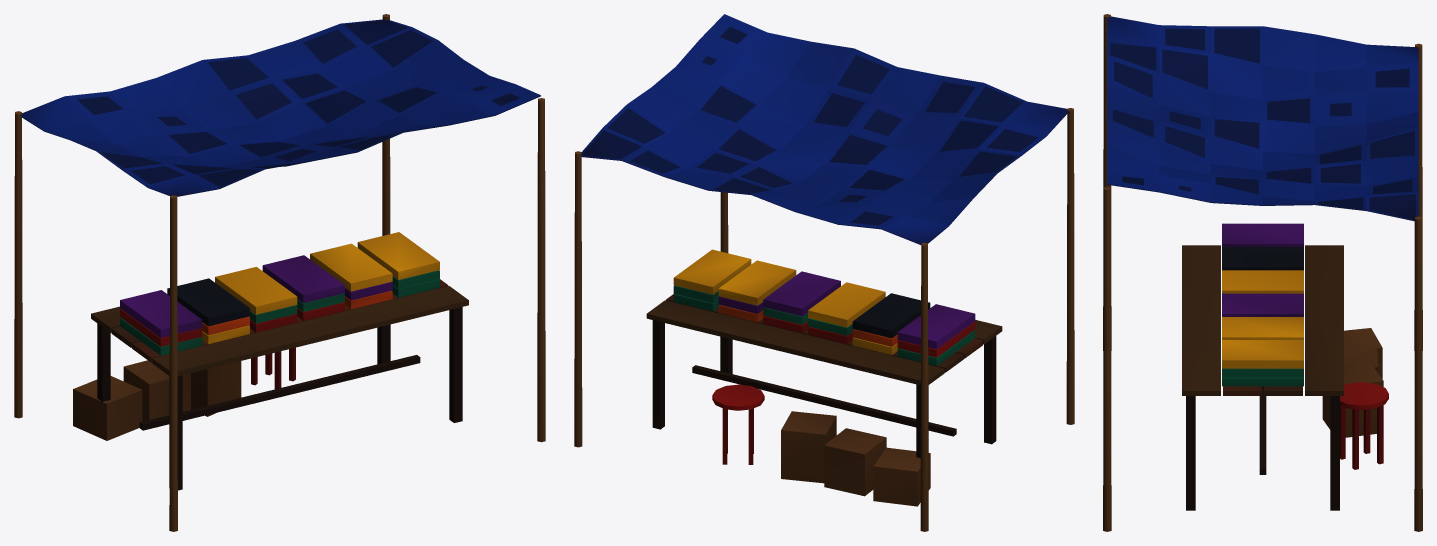
File: mk_stall_tarp.glb
The picture shows the model from 3 angles, left to right: view 1: azimuth 30°, elevation 25°; view 2: azimuth 150°, elevation 25°; view 3: azimuth 270°, elevation 25°; orthographic projection. The views are drawn at different scales.
Visible parts, largest first — view 1: mk_stall_tarp; view 2: mk_stall_tarp; view 3: mk_stall_tarp.
Part boxes in pixels (x1=…): mk_stall_tarp: x1=14, y1=14, x2=545, y2=531; mk_stall_tarp: x1=574, y1=14, x2=1074, y2=531; mk_stall_tarp: x1=1103, y1=14, x2=1422, y2=531.
Size of the model in its own units: 2.66 by 2.33 by 1.95.
